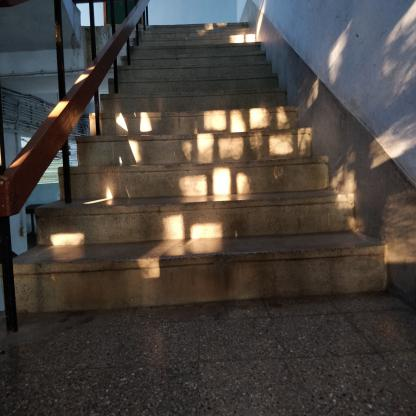stairs: (79, 141, 309, 330)
